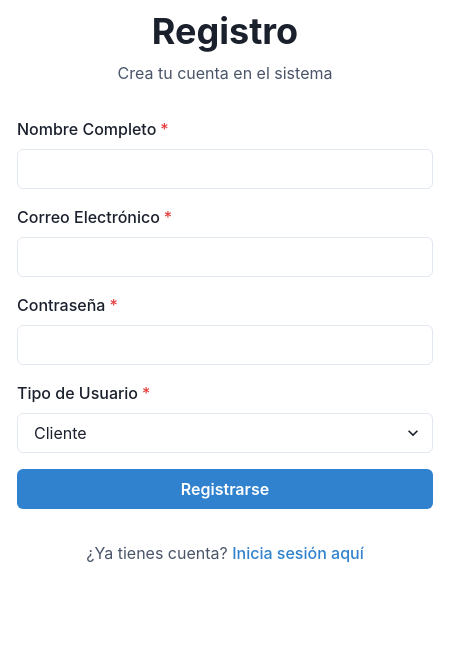
RegisterPage › should display error message on registration failure
Type "Test User" into the field labelled "Nombre Completo*". click: [225, 169]
box: x1=17 y1=149 x2=433 y2=189
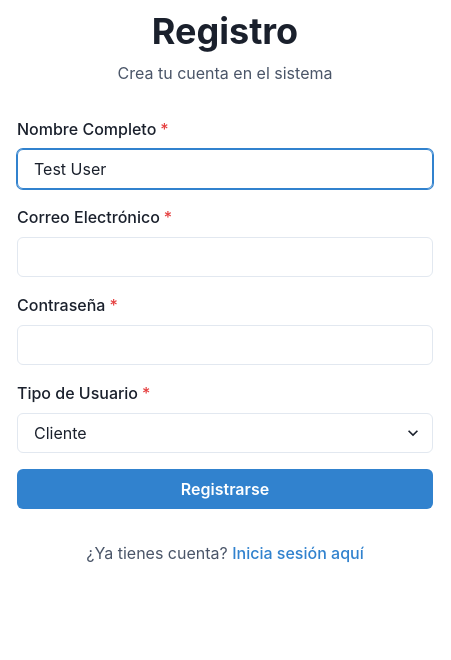
Type "existing@example.com" into the field labelled "Correo Electrónico*". click: [225, 257]
box: x1=17 y1=237 x2=433 y2=277
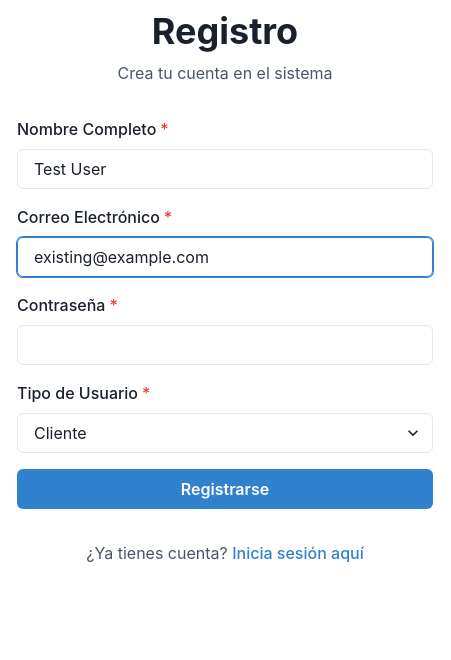
Type "password123" into the password field labelled "Contraseña*". click: [225, 345]
box: x1=17 y1=325 x2=433 y2=365
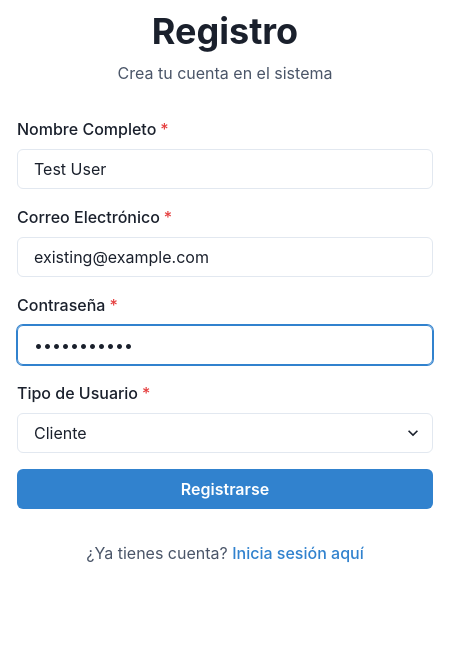
Click the button "Registrarse". click: [225, 489]
box: x1=17 y1=469 x2=433 y2=509
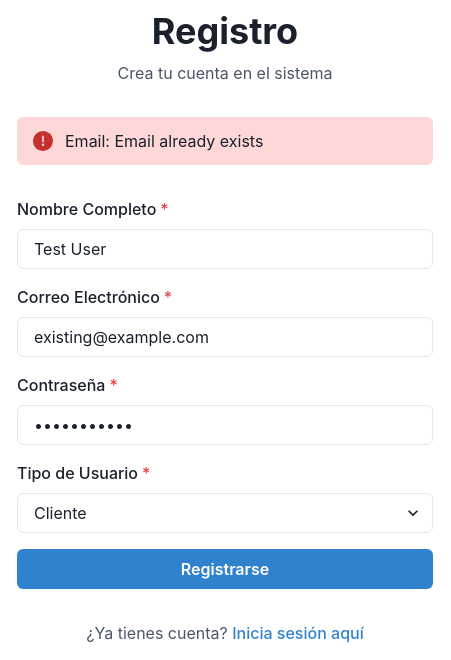
Expected: the text "Email: Email already exists" is shown, x1=17 y1=117 x2=433 y2=165
